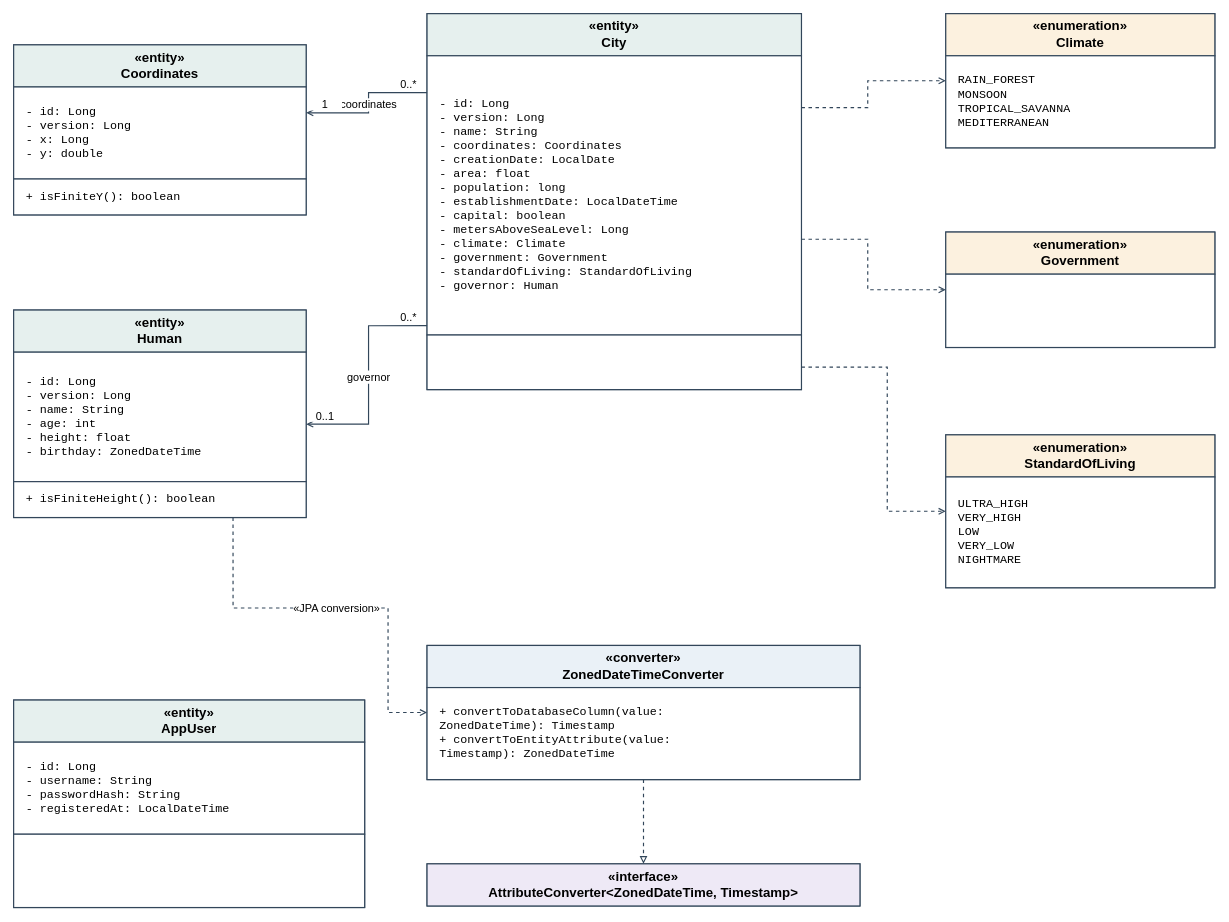
This 1229x922 diagram has some shape labels left out. Here are the shapes that lost their labels. From the top down, the centre of each, then its label:
the point at 1080,310: ANARCHY DESPOTISM ETHNOCRACY
the point at 614,362: ~ initialize(): void + isFiniteArea(): boolean
the point at 189,870: ~ initialize(): void + getUsername(): String + getPasswordHash(): String
